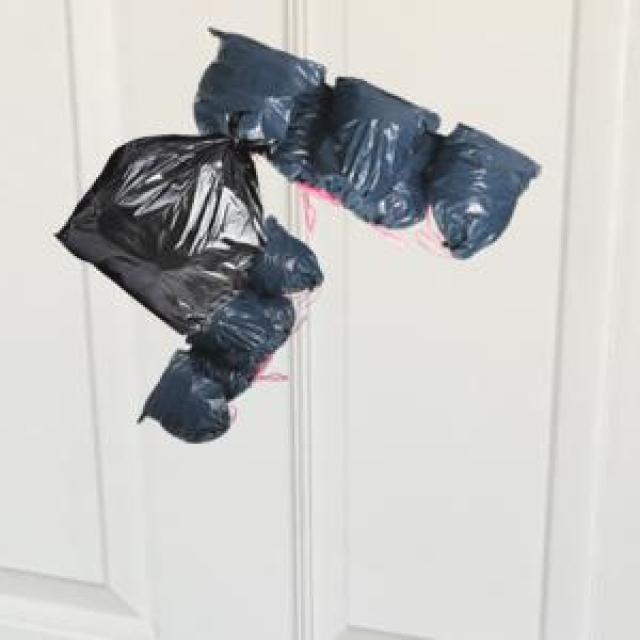Trashbag: (48, 130, 261, 331), (424, 122, 543, 267), (309, 76, 433, 212), (195, 21, 313, 152), (135, 353, 251, 457), (253, 225, 330, 301)
